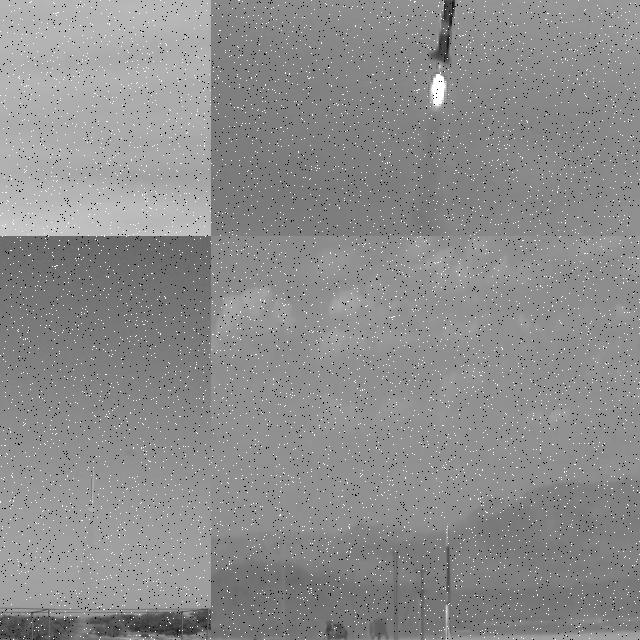Rocket: (424, 0, 458, 65), (441, 524, 452, 640), (87, 468, 98, 514)
